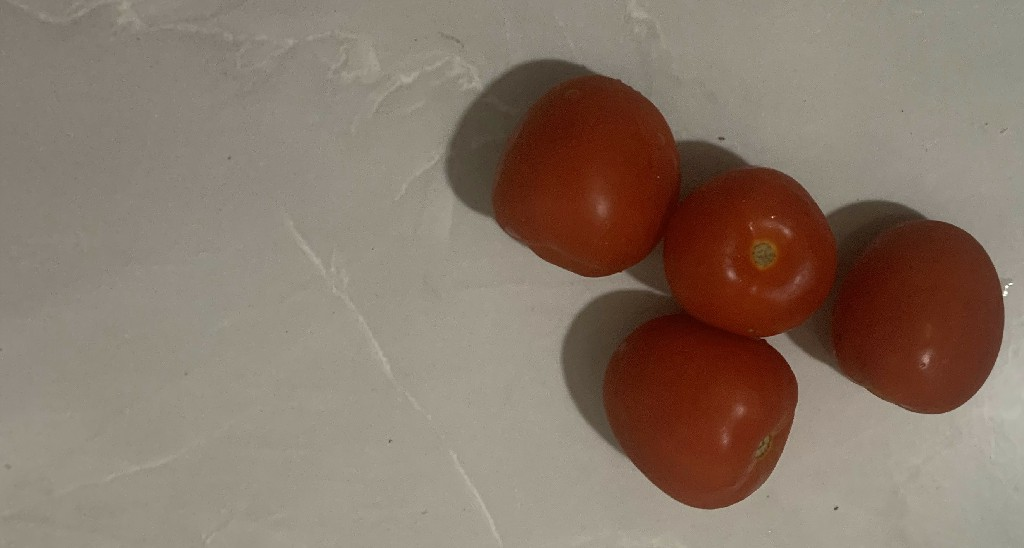OK: (494, 67, 681, 282), (594, 315, 793, 513), (835, 211, 1004, 410), (665, 165, 838, 328)
